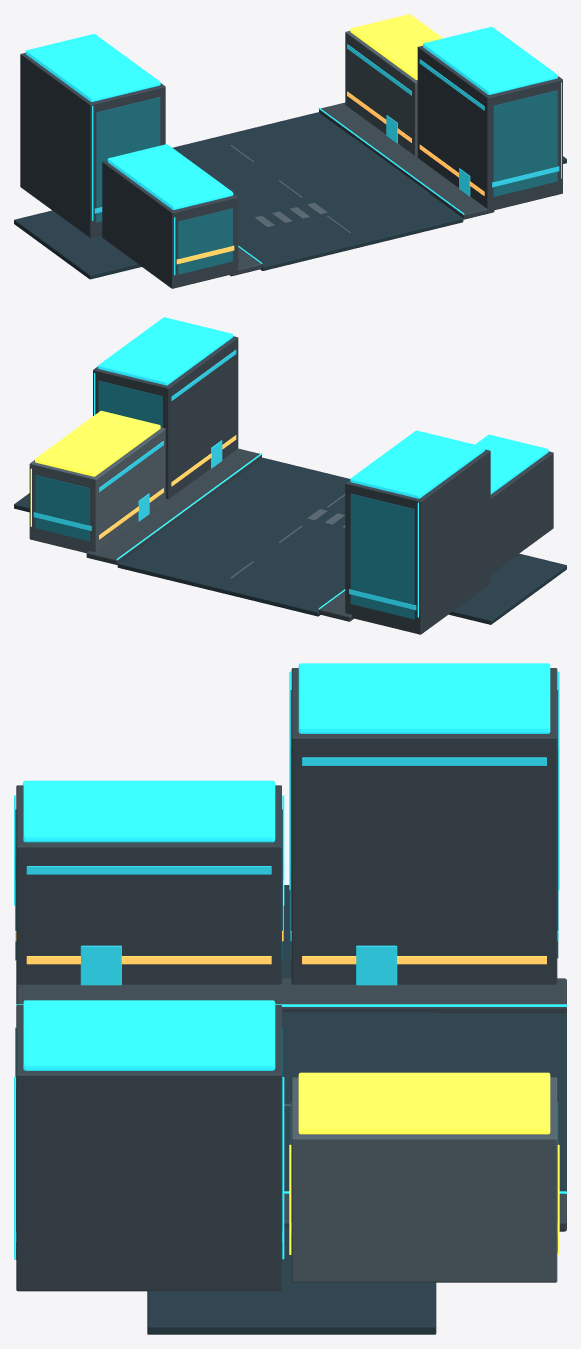
File: crossroads_lod2.glb
The picture shows the model from 3 angles, top to bottom: view 1: azimuth 30°, elevation 25°; view 2: azimuth 150°, elevation 25°; view 3: azimuth 270°, elevation 25°; orthographic projection. The views are drawn at different scales.
Parts seen in each view (by area): view 1: ND_Batch_ND_CityConcrete, ND_Batch_ND_WetAsphalt, ND_Batch_ND_CityCyanMuted, ND_Batch_ND_DarkGlass, ND_Batch_ND_CityConcreteLight, ND_Batch_ND_RoadEdge, ND_Batch_ND_PackageGold, ND_Batch_ND_NeonGlass, ND_Batch_ND_WarmWindow; view 2: ND_Batch_ND_CityConcrete, ND_Batch_ND_WetAsphalt, ND_Batch_ND_CityCyanMuted, ND_Batch_ND_DarkGlass, ND_Batch_ND_CityConcreteLight, ND_Batch_ND_RoadEdge, ND_Batch_ND_PackageGold, ND_Batch_ND_NeonGlass, ND_Batch_ND_WarmWindow; view 3: ND_Batch_ND_CityConcrete, ND_Batch_ND_CityCyanMuted, ND_Batch_ND_CityConcreteLight, ND_Batch_ND_WetAsphalt, ND_Batch_ND_PackageGold, ND_Batch_ND_RoadEdge, ND_Batch_ND_NeonGlass, ND_Batch_ND_WarmWindow, ND_Batch_ND_DarkGlass.
Part boxes in pixels (box(x1,y1,x2,y2)): ND_Batch_ND_CityConcrete: box(20, 45, 562, 288); ND_Batch_ND_WetAsphalt: box(14, 112, 566, 279); ND_Batch_ND_CityCyanMuted: box(25, 26, 561, 275); ND_Batch_ND_DarkGlass: box(96, 90, 557, 274); ND_Batch_ND_CityConcreteLight: box(230, 31, 417, 233); ND_Batch_ND_RoadEdge: box(229, 102, 494, 276); ND_Batch_ND_PackageGold: box(350, 14, 442, 79); ND_Batch_ND_NeonGlass: box(94, 44, 559, 213); ND_Batch_ND_WarmWindow: box(176, 91, 484, 264); ND_Batch_ND_CityConcrete: box(93, 336, 553, 634); ND_Batch_ND_WetAsphalt: box(14, 457, 566, 624); ND_Batch_ND_CityCyanMuted: box(94, 317, 548, 617); ND_Batch_ND_DarkGlass: box(35, 381, 414, 619); ND_Batch_ND_CityConcreteLight: box(29, 427, 345, 578); ND_Batch_ND_RoadEdge: box(86, 448, 353, 621); ND_Batch_ND_PackageGold: box(30, 410, 160, 526); ND_Batch_ND_NeonGlass: box(33, 350, 416, 610); ND_Batch_ND_WarmWindow: box(99, 435, 236, 539); ND_Batch_ND_CityConcrete: box(16, 668, 557, 1291); ND_Batch_ND_CityCyanMuted: box(14, 663, 566, 1259); ND_Batch_ND_CityConcreteLight: box(284, 1077, 557, 1282); ND_Batch_ND_WetAsphalt: box(147, 885, 566, 1334); ND_Batch_ND_PackageGold: box(289, 1072, 559, 1254); ND_Batch_ND_RoadEdge: box(16, 978, 566, 1231); ND_Batch_ND_NeonGlass: box(16, 757, 558, 1241); ND_Batch_ND_WarmWindow: box(15, 879, 546, 964); ND_Batch_ND_DarkGlass: box(15, 690, 558, 1259).
Size of the model in its own units: 38 by 10.8 by 20.09.
